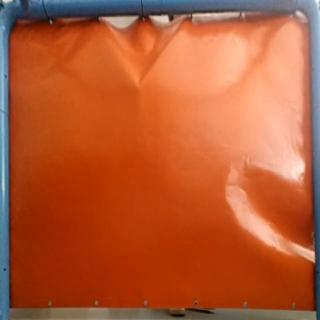Hit-hRxx: (127, 73, 146, 95)
